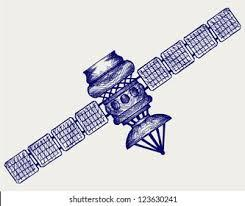antenna: (125, 113, 172, 156)
body: (101, 78, 154, 126)
solar: (3, 99, 110, 185), (136, 6, 242, 92)
thruster: (81, 49, 124, 86)
